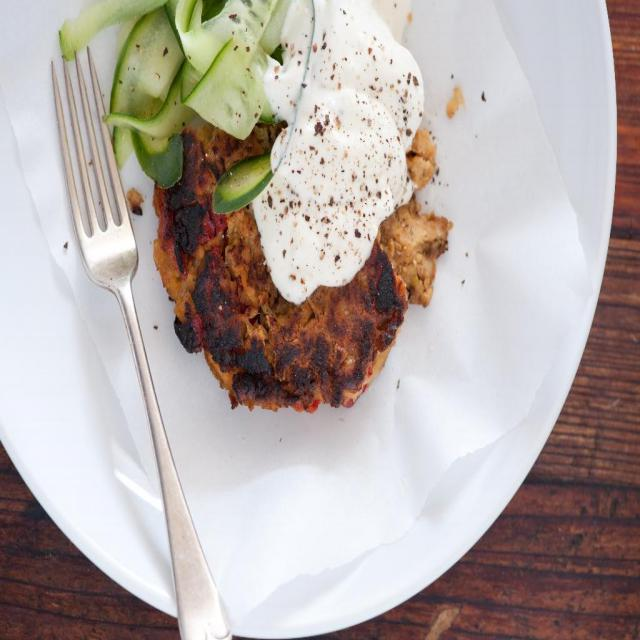Zucchini: (205, 1, 323, 215), (109, 2, 193, 180), (176, 0, 279, 134), (129, 52, 198, 190)
